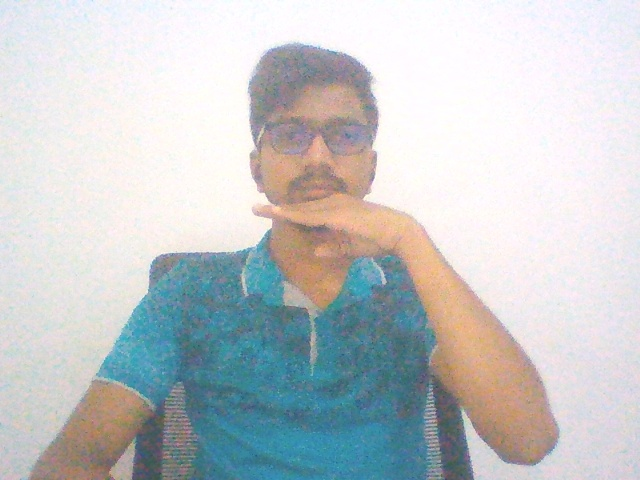elephant: (227, 168, 458, 279)
